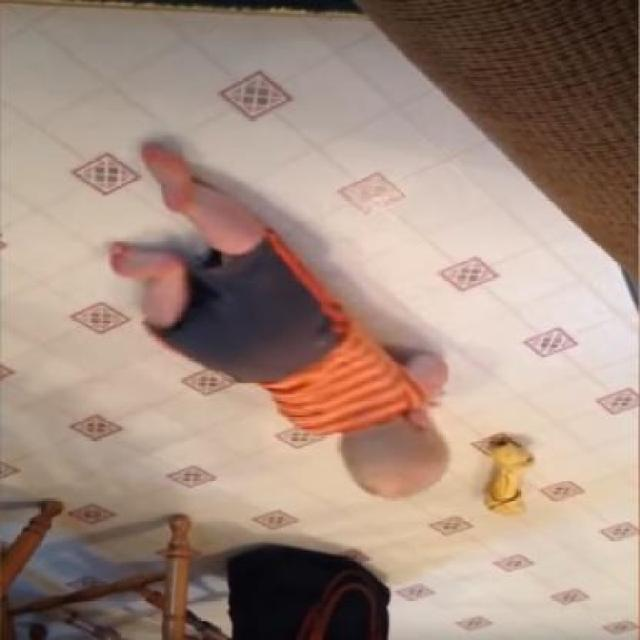baby: (108, 149, 450, 502)
